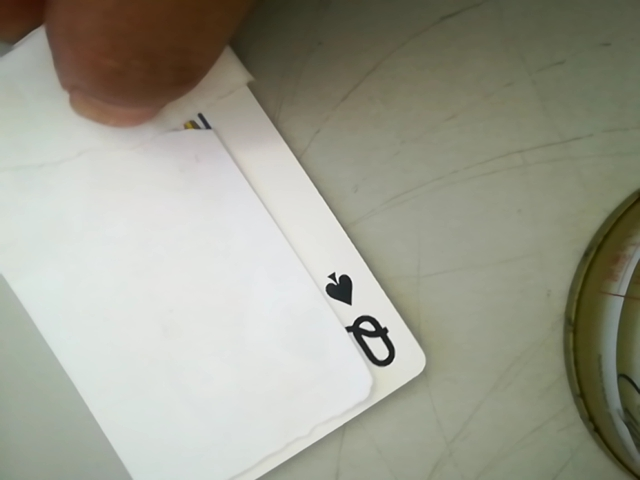ht q: (318, 262, 409, 383)
